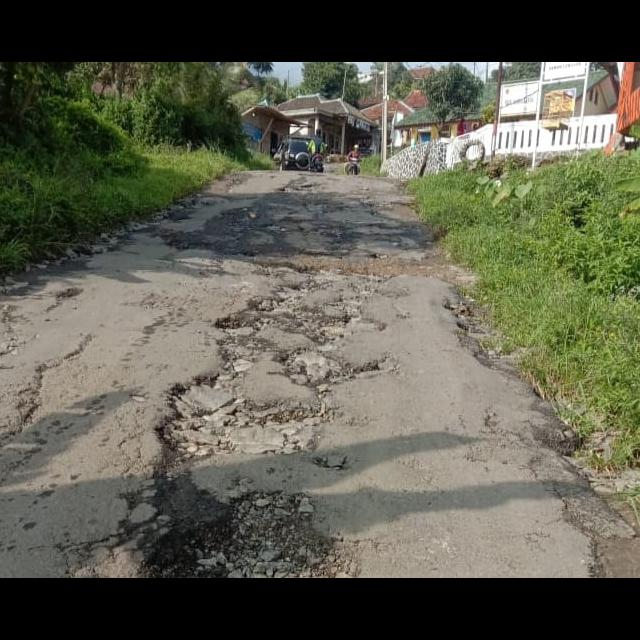lubang_kecil: (159, 272, 378, 466), (113, 464, 364, 578), (428, 287, 520, 378), (0, 324, 36, 392)
